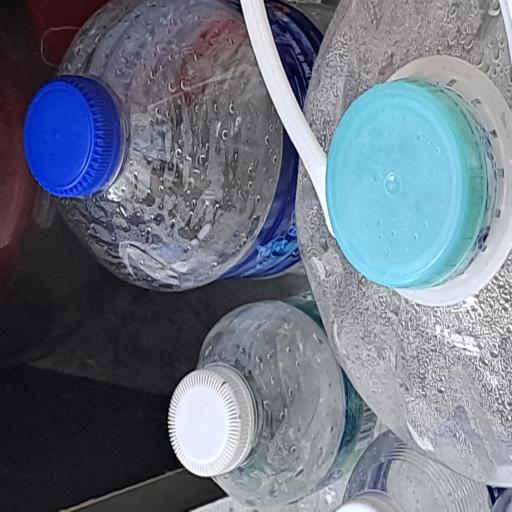plastic bottle: (168, 57, 384, 474), (21, 394, 384, 512), (4, 271, 178, 510), (0, 458, 64, 512)
plastic bottle cap: (235, 29, 329, 159), (167, 436, 326, 512), (24, 218, 112, 339)
